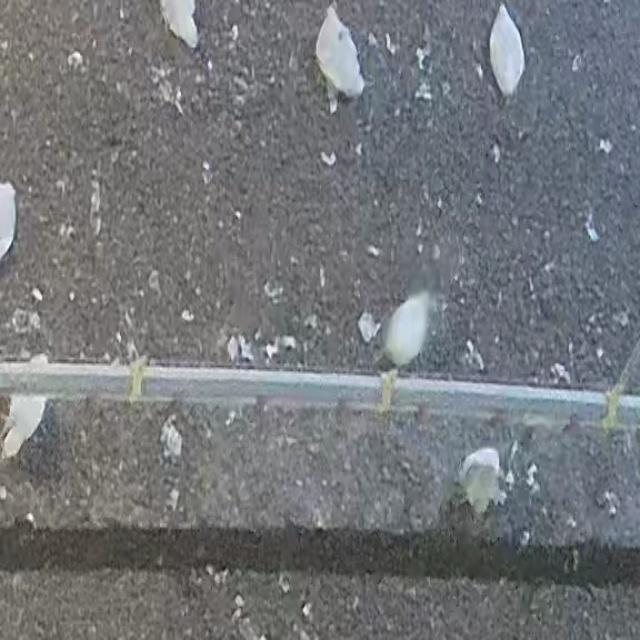chicken: (316, 7, 369, 107), (386, 290, 433, 367), (489, 5, 526, 97), (459, 447, 503, 517), (1, 395, 48, 460), (158, 0, 201, 50)
